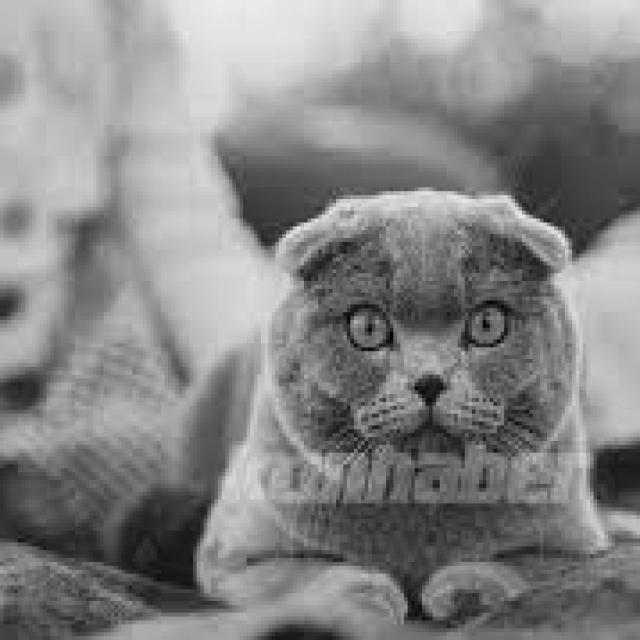scootish: (260, 179, 583, 508)
